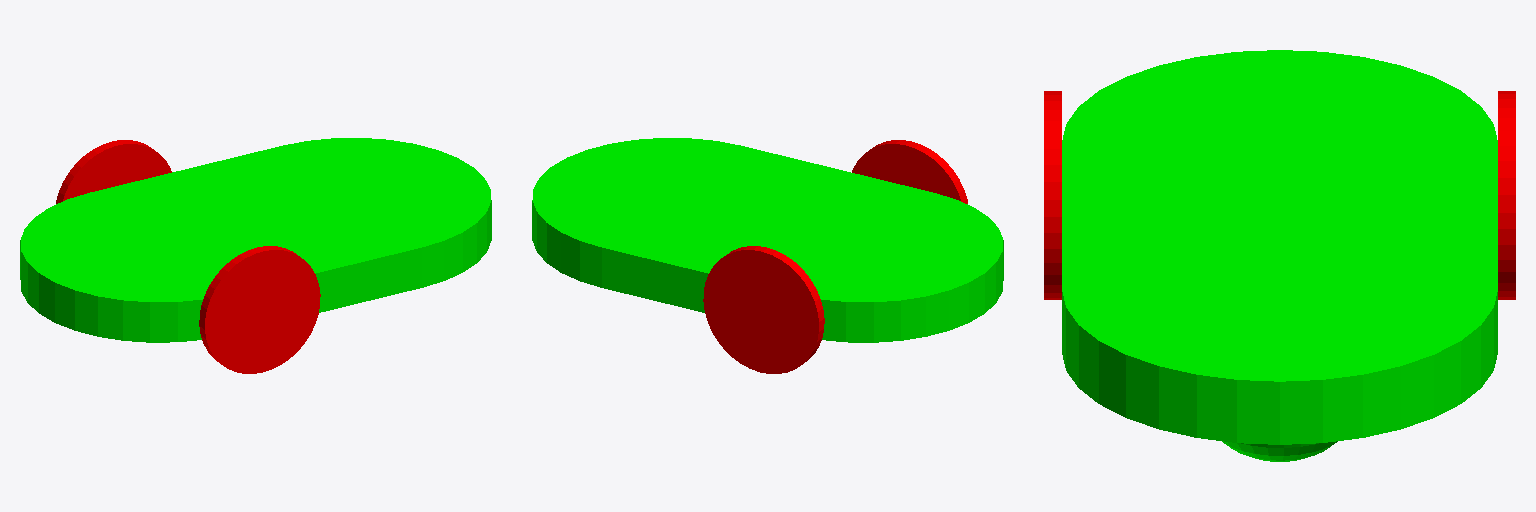
URDF robot description (two_wheel_robot):
<?xml version="1.0" encoding="utf-8"?>

<robot
  name="two_wheel_robot">
  
  <link
    name="base_link">
    <inertial>
      <origin
        xyz="0.0215991281826754 -1.11022302462516E-16 -0.0436736314280723"
        rpy="0 0 0" />
      <mass
        value="31.9580683938502" />
      <inertia
        ixx="0.577666345103069"
        ixy="-1.77463164369952E-17"
        ixz="0.0320171257224286"
        iyy="1.88253718211803"
        iyz="4.14843937070388E-18"
        izz="2.40998198569462" />
    </inertial>
    <visual>
      <origin
        xyz="0 0 0"
        rpy="0 0 0" />
      <geometry>
        <mesh
          filename="package://two_wheel_robot/meshes/base_link.STL" />
      </geometry>
      <material
        name="">
        <color
          rgba="0 1 0 1" />
      </material>
    </visual>
    <collision>
      <origin
        xyz="0 0 0"
        rpy="0 0 0" />
      <geometry>
        <mesh
          filename="package://two_wheel_robot/meshes/base_link.STL" />
      </geometry>
    </collision>
  </link>
  
  <link
    name="left_link">
    <inertial>
      <origin
        xyz="5.55111512312578E-17 -0.017608695652174 0"
        rpy="0 0 0" />
      <mass
        value="1.15610609652104" />
      <inertia
        ixx="0.00368119989262291"
        ixy="-4.15577162170452E-19"
        ixz="2.87638271671773E-19"
        iyy="0.00671546845631355"
        iyz="-5.73406098635469E-20"
        izz="0.00368119989262291" />
    </inertial>
    <visual>
      <origin
        xyz="0 0 0"
        rpy="0 0 0" />
      <geometry>
        <mesh
          filename="package://two_wheel_robot/meshes/left_link.STL" />
      </geometry>
      <material
        name="">
        <color
          rgba="1 0 0 1" />
      </material>
    </visual>
    <collision>
      <origin
        xyz="0 0 0"
        rpy="0 0 0" />
      <geometry>
        <mesh
          filename="package://two_wheel_robot/meshes/left_link.STL" />
      </geometry>
    </collision>
  </link>
  
  <joint
    name="left_joint"
    type="continuous">
    <origin
      xyz="-0.14188 0.27 -0.04"
      rpy="0 0 0" />
    <parent
      link="base_link" />
    <child
      link="left_link" />
    <axis
      xyz="0 -1 0" />
    <limit
      effort="1"
      velocity="1" />
  </joint>
 
  <link
    name="right_link">
    <inertial>
      <origin
        xyz="0 0.0176086956521739 -1.11022302462516E-16"
        rpy="0 0 0" />
      <mass
        value="1.15610609652104" />
      <inertia
        ixx="0.00368119989262291"
        ixy="-6.5904795560317E-19"
        ixz="2.91167575618666E-19"
        iyy="0.00671546845631355"
        iyz="5.18367490244264E-20"
        izz="0.00368119989262291" />
    </inertial>
    <visual>
      <origin
        xyz="0 0 0"
        rpy="0 0 0" />
      <geometry>
        <mesh
          filename="package://two_wheel_robot/meshes/right_link.STL" />
      </geometry>
      <material
        name="">
        <color
          rgba="1 0 0 1" />
      </material>
    </visual>
    <collision>
      <origin
        xyz="0 0 0"
        rpy="0 0 0" />
      <geometry>
        <mesh
          filename="package://two_wheel_robot/meshes/right_link.STL" />
      </geometry>
    </collision>
  </link>
  
  <joint
    name="right_joint"
    type="continuous">
    <origin
      xyz="-0.14188 -0.27 -0.04"
      rpy="0 0 0" />
    <parent
      link="base_link" />
    <child
      link="right_link" />
    <axis
      xyz="0 -1 0" />
    <limit
      effort="1"
      velocity="1" />
  </joint>

</robot>

--- Render facts (derived) ---
The picture shows the robot from 3 angles, left to right: view 1: azimuth 30°, elevation 25°; view 2: azimuth 150°, elevation 25°; view 3: azimuth 270°, elevation 25°; orthographic projection.
Robot: two_wheel_robot — 3 links, 2 joints (2 continuous); root link base_link; default pose: every joint at zero.
Links seen in each view (by area): view 1: base_link, right_link, left_link; view 2: base_link, left_link, right_link; view 3: base_link, left_link, right_link.
Boxes of the visible links, <box> form: base_link: <box>20,138,491,342</box>; right_link: <box>199,246,320,373</box>; left_link: <box>56,140,171,203</box>; base_link: <box>532,138,1003,342</box>; left_link: <box>703,246,824,373</box>; right_link: <box>852,140,967,203</box>; base_link: <box>1062,50,1497,461</box>; left_link: <box>1498,91,1515,299</box>; right_link: <box>1044,91,1061,299</box>.
Bounding box of the posed robot: 0.9 × 0.54 × 0.24 m (x, y, z).
3 mesh visuals loaded from 3 distinct referenced files (3 binary STL).